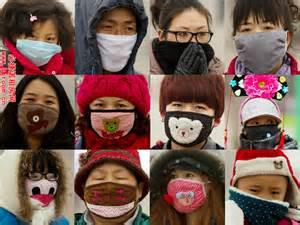OK: (232, 20, 288, 70), (91, 21, 141, 70), (87, 174, 136, 217), (168, 99, 212, 142), (19, 95, 60, 134), (92, 98, 134, 136), (20, 25, 58, 65), (171, 171, 208, 209), (22, 172, 59, 210), (248, 117, 281, 146)
WRONG: (162, 23, 211, 65), (240, 181, 285, 219)
